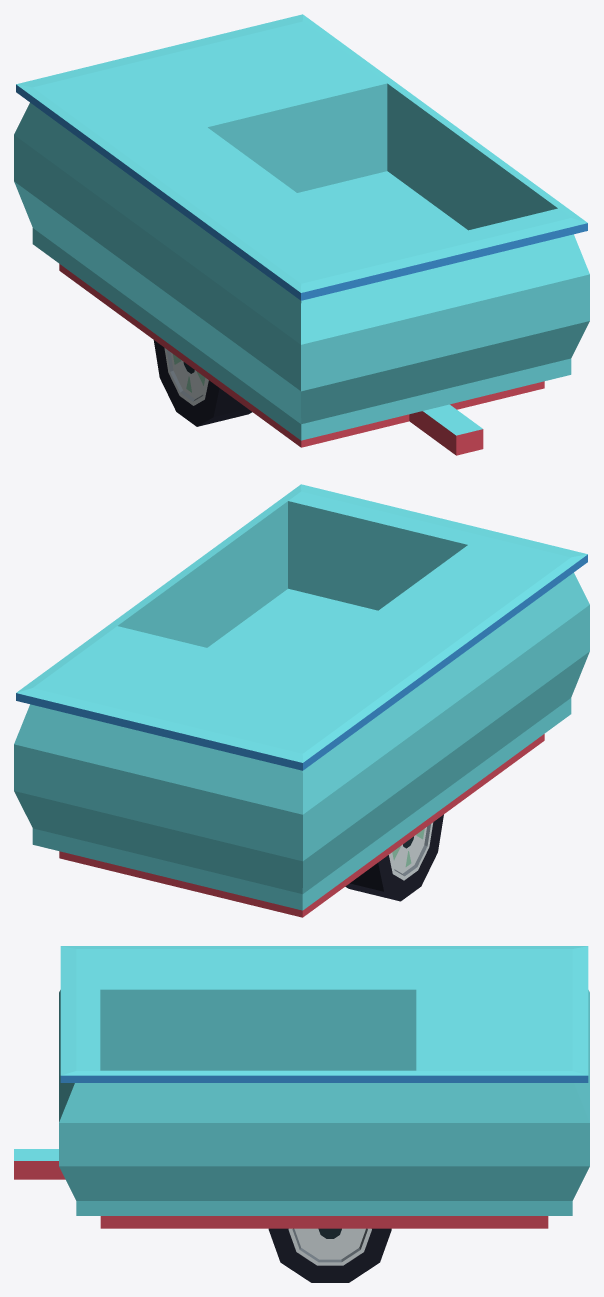
The model's file is Building_CottonCandyStandTest.fbx.
3 renders of one model, top to bottom at view 1: azimuth 30°, elevation 25°; view 2: azimuth 150°, elevation 25°; view 3: azimuth 270°, elevation 25°, orthographic. The views are drawn at different scales.
Visible parts, largest first — view 1: Cube.016, Cylinder.055; view 2: Cube.016, Cylinder.055; view 3: Cube.016, Cylinder.056.
Part boxes in pixels (<box>): Cube.016: <box>14,14,589,455</box>; Cylinder.055: <box>153,340,252,426</box>; Cube.016: <box>14,484,589,917</box>; Cylinder.055: <box>345,814,443,901</box>; Cube.016: <box>14,946,589,1228</box>; Cylinder.056: <box>268,1228,391,1282</box>.
Size of the model in its own units: 156 by 125 by 292.
